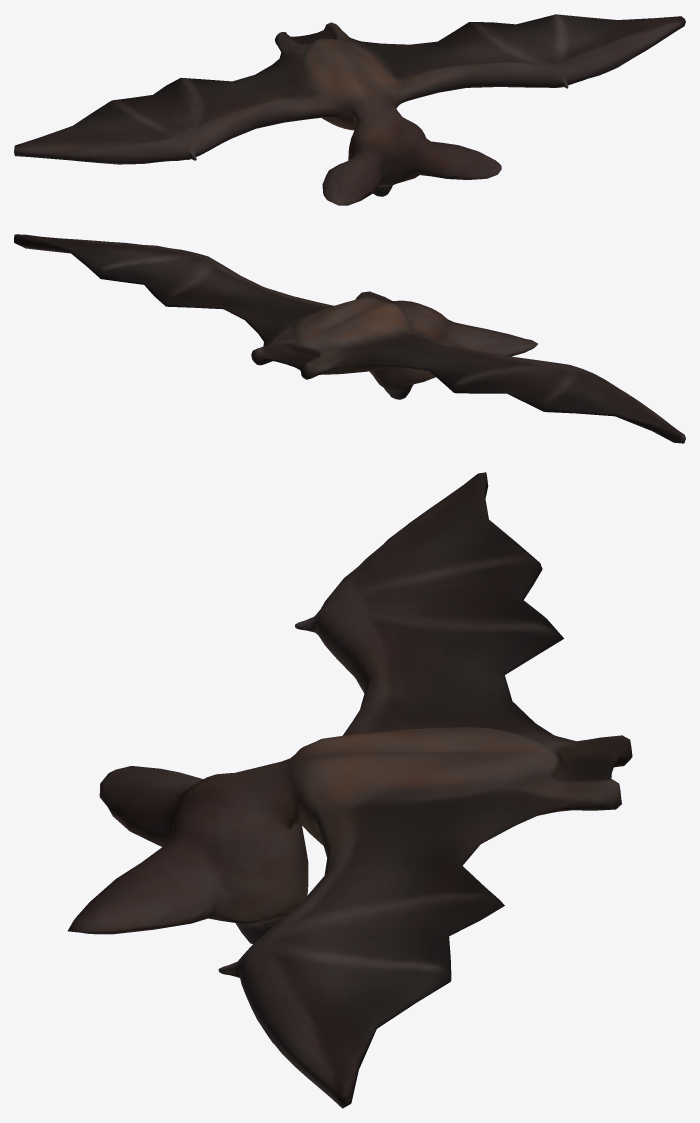
The model's file is bat.fbx.
3 renders of one model, top to bottom at view 1: azimuth 30°, elevation 25°; view 2: azimuth 150°, elevation 25°; view 3: azimuth 270°, elevation 25°, orthographic. The views are drawn at different scales.
Parts seen in each view (by area): view 1: pasted__pasted__Bat_body; view 2: pasted__pasted__Bat_body; view 3: pasted__pasted__Bat_body.
Boxes of the visible parts, bbox=[...] form: pasted__pasted__Bat_body: bbox=[14, 14, 685, 205]; pasted__pasted__Bat_body: bbox=[14, 234, 685, 443]; pasted__pasted__Bat_body: bbox=[67, 472, 632, 1108].
Bounding box in the file's own units: 8.32 × 1.3 × 3.19.
